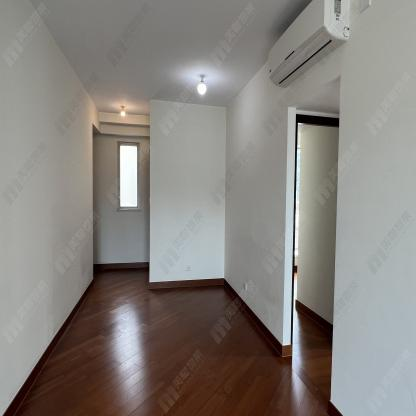AC: (267, 0, 350, 89)
